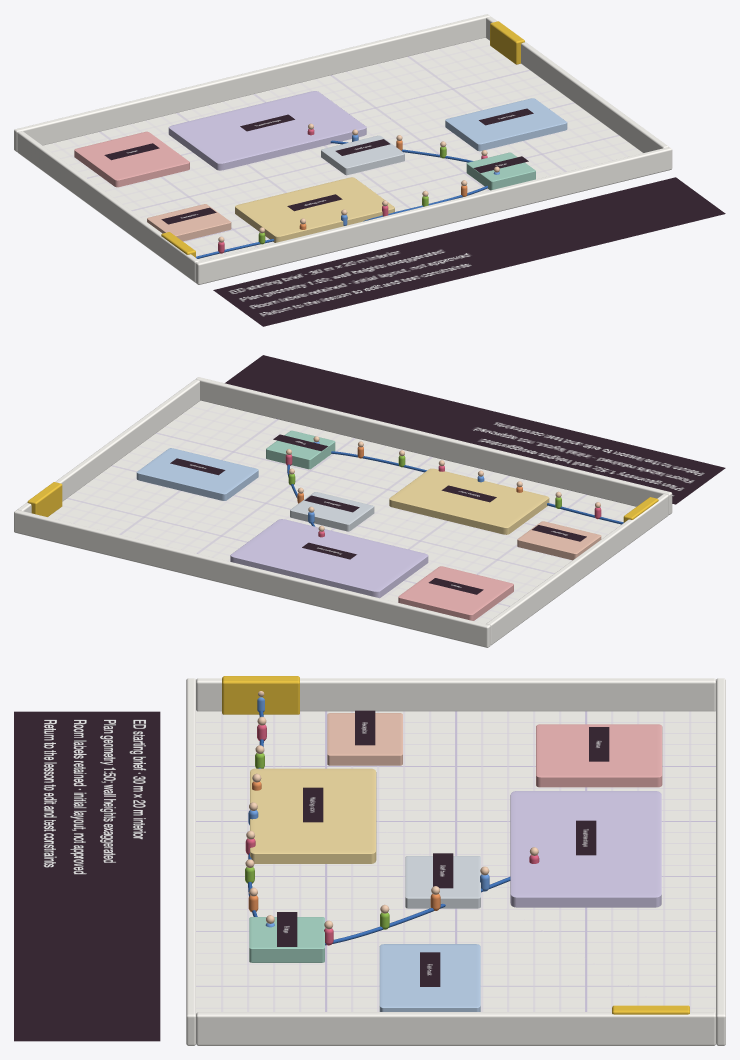
File: plan.glb
3 renders of one model, top to bottom at view 1: azimuth 30°, elevation 25°; view 2: azimuth 150°, elevation 25°; view 3: azimuth 270°, elevation 25°, orthographic. The views are drawn at different scales.
Parts seen in each view (by area): view 1: plan_authored_teaching_model, Scale_and_credit; view 2: plan_authored_teaching_model, Scale_and_credit; view 3: plan_authored_teaching_model, Scale_and_credit.
Boxes of the visible parts, left/top/right/bottom form: plan_authored_teaching_model: left=14, top=14, right=672, bottom=284; Scale_and_credit: left=213, top=177, right=725, bottom=326; plan_authored_teaching_model: left=14, top=377, right=672, bottom=647; Scale_and_credit: left=225, top=355, right=725, bottom=504; plan_authored_teaching_model: left=186, top=676, right=725, bottom=1045; Scale_and_credit: left=14, top=711, right=160, bottom=1041.
Size of the model in its own units: 0.6152 by 0.0292 by 0.5477.
34 materials, 9 textured.
